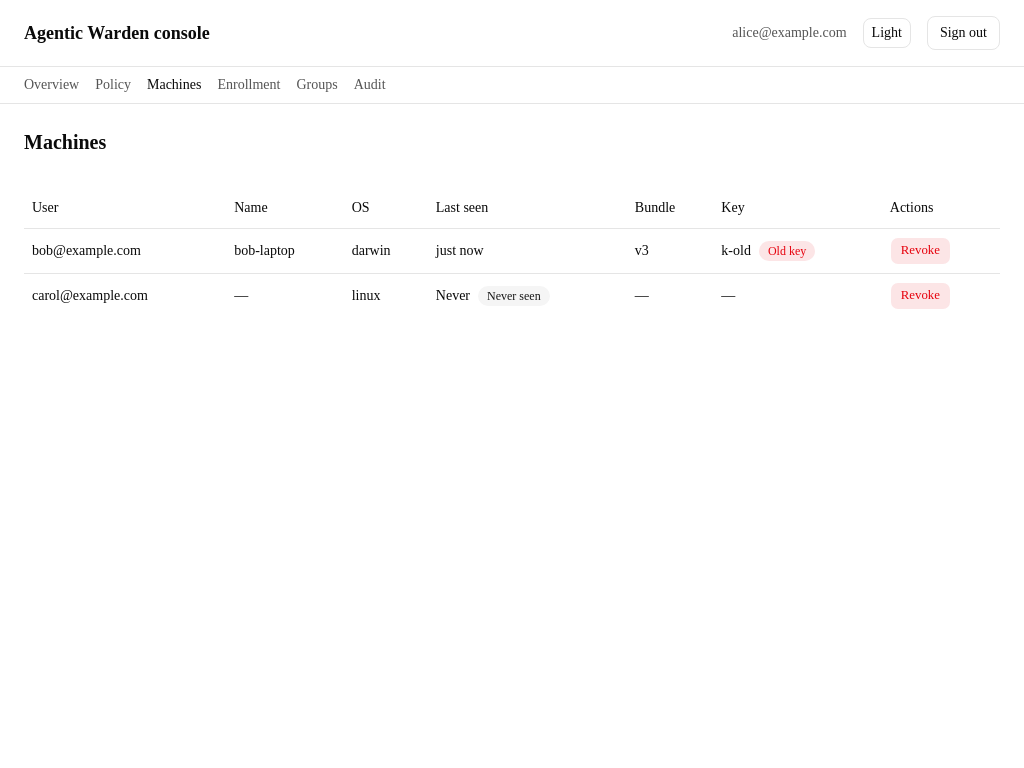
Test: treats a 404 on revoke as already revoked
Click the button "Revoke" in the row of "bob@example.com" at (920, 250), box [890,236,951,264]
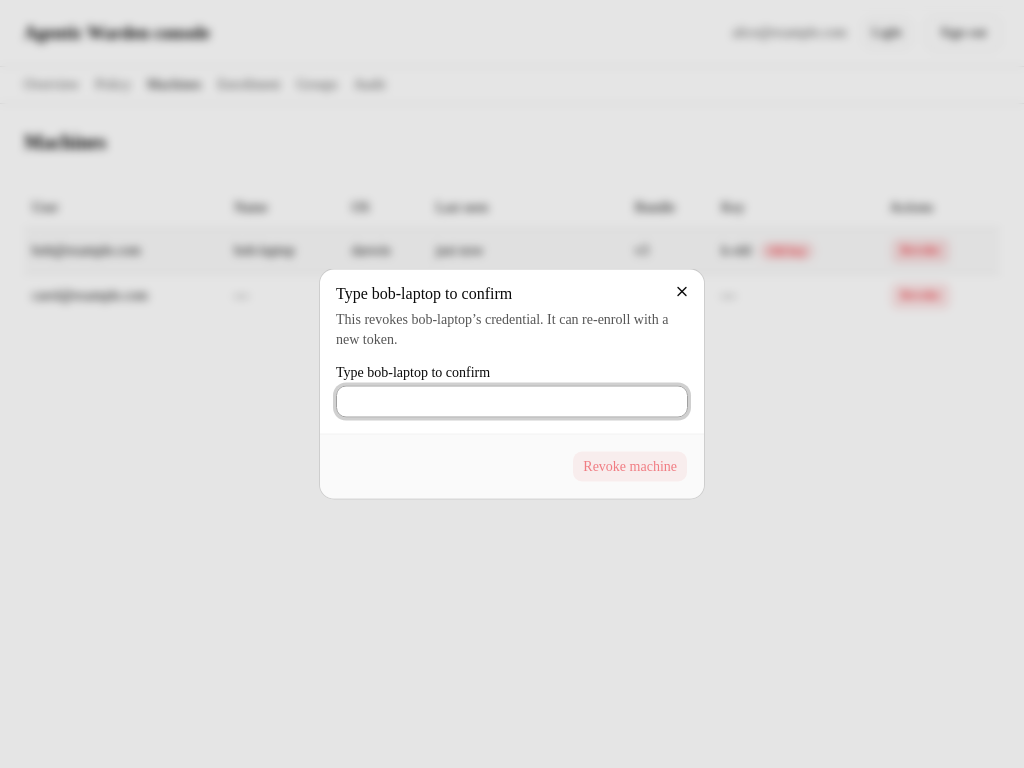
Type "bob-laptop" into the field labelled "Type bob-laptop to confirm" at (512, 402), box [336,386,688,418]
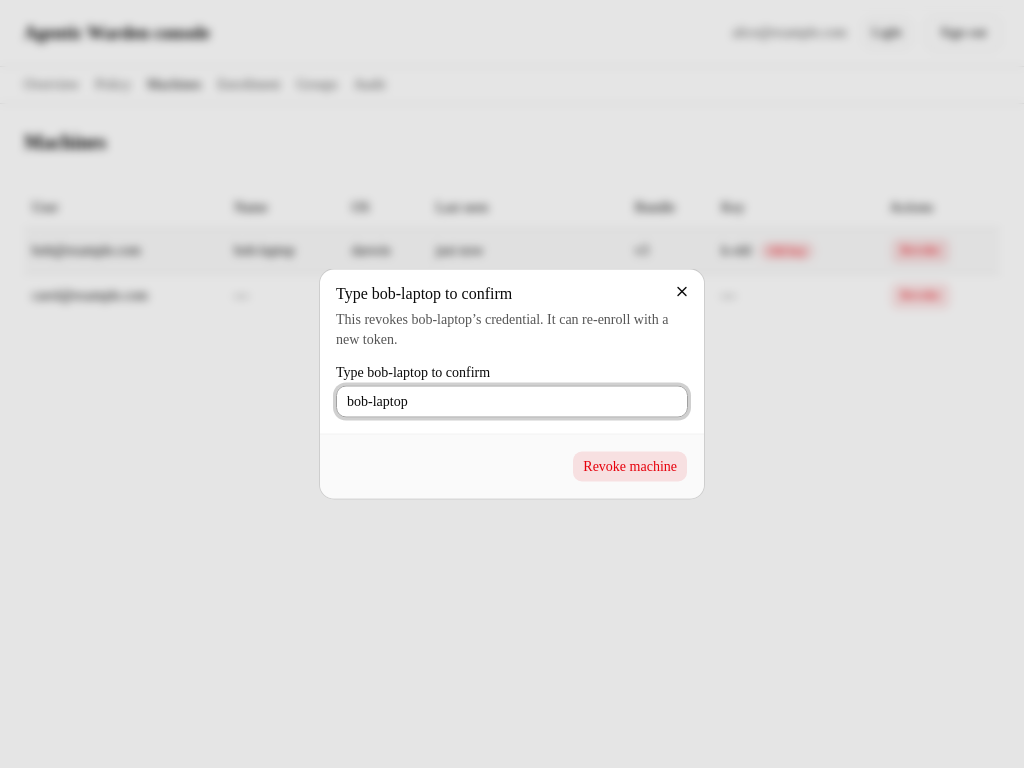
Click the button "Revoke machine" at (630, 466), box [572,450,688,482]
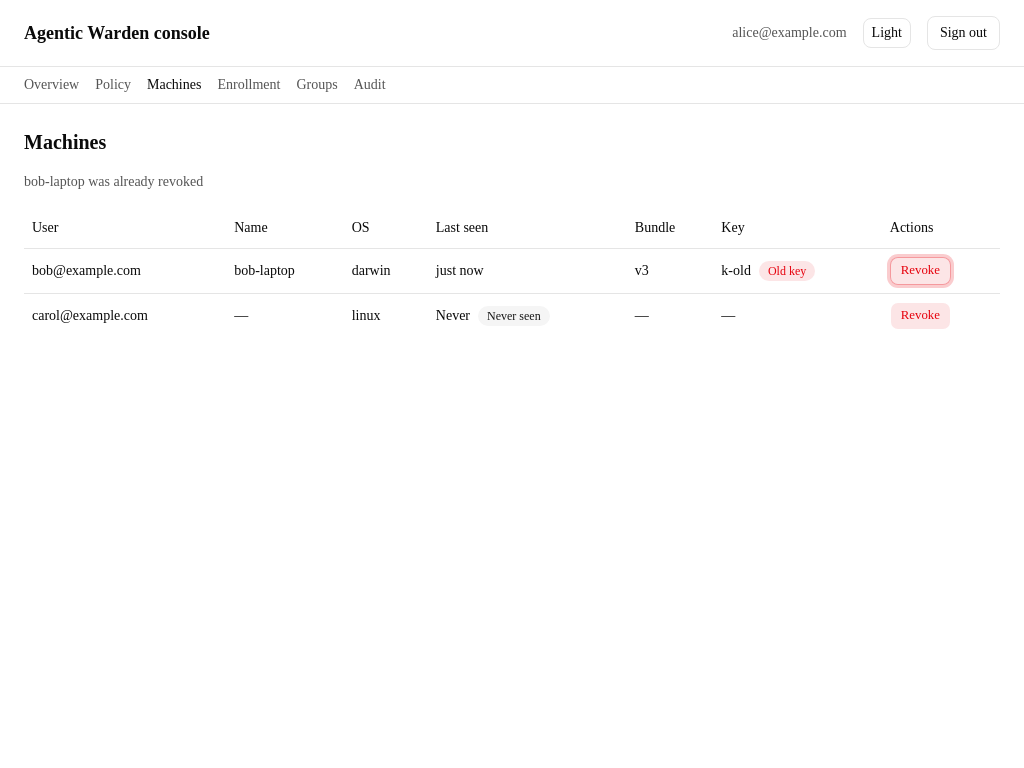
Check: the text "bob-laptop was already revoked" is shown, box [24,174,203,189]
